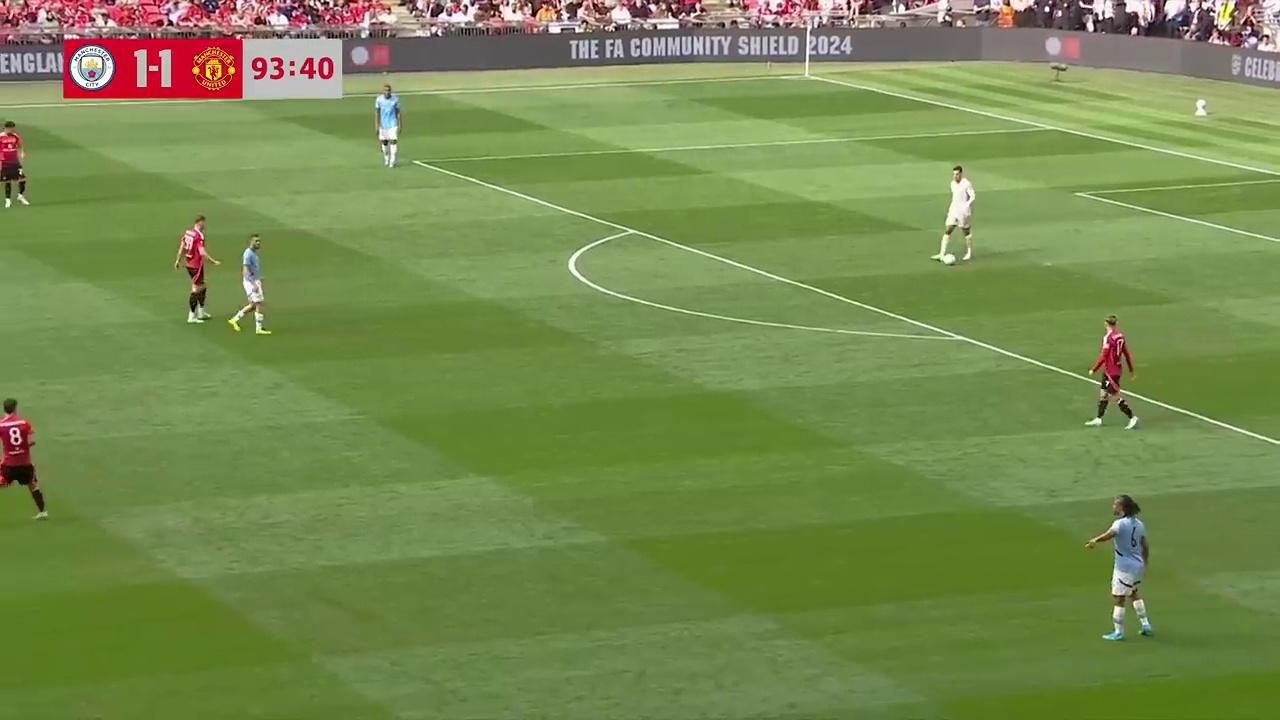ball: (942, 249, 956, 266)
player: (1084, 494, 1154, 641), (1086, 315, 1138, 429), (0, 398, 48, 519), (174, 213, 218, 323), (228, 232, 271, 335), (935, 165, 975, 264), (374, 84, 402, 168), (1, 126, 29, 208)
